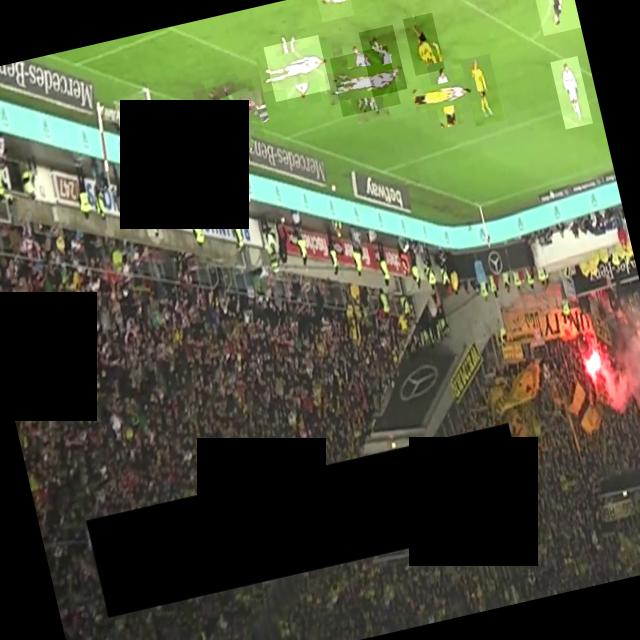goalkeeper: (192, 78, 264, 150)
referee: (525, 0, 581, 35)
soccer-player: (330, 45, 400, 117), (263, 34, 330, 102), (358, 24, 407, 96), (460, 53, 505, 126), (550, 55, 592, 129), (419, 66, 472, 120), (402, 12, 444, 75), (315, 0, 354, 22)
